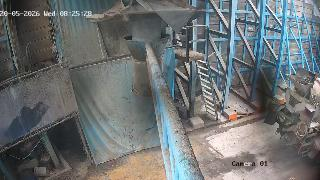cement_mixer_truck: (264, 68, 320, 158)
swing_chute: (124, 35, 170, 99)
